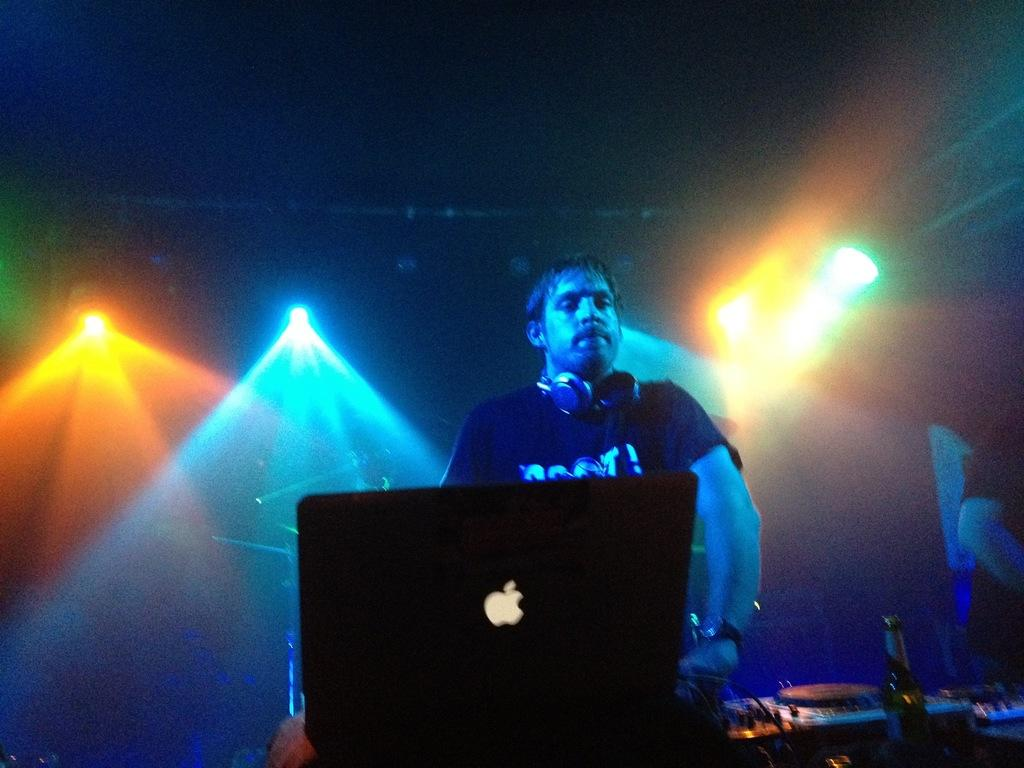Laptop: (310, 476, 711, 765)
